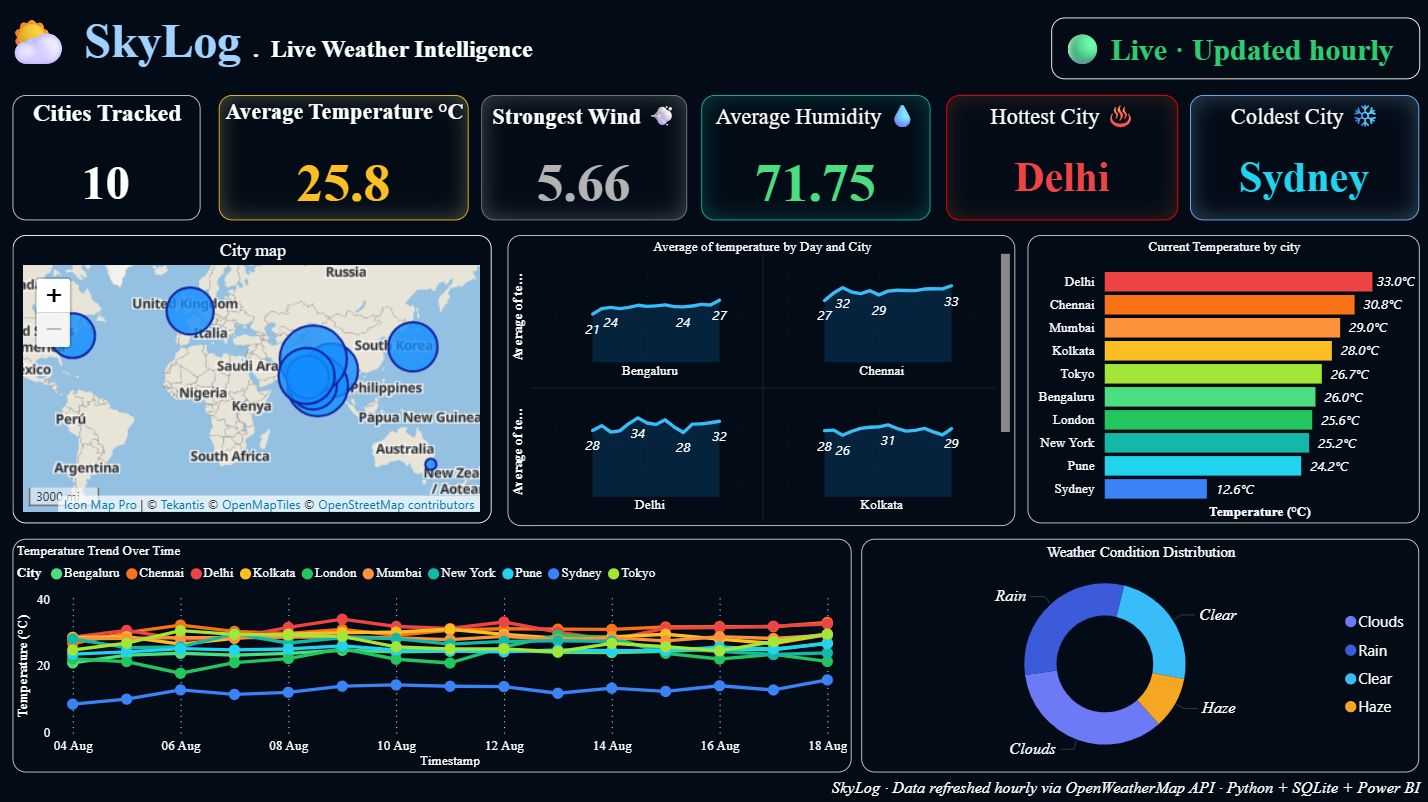

Layout of this report page (visuals, bound fields, positions):
{"tool":"powerbi","page":{"name":"Page 1","canvas":[1280,720],"ordinal":0},"visuals":[{"type":"barChart","title":"Current Temperature by city","fields":{"Y":["weather_log.Latest Temperature"],"Category":["weather_log.city"]},"box":[917.6,209.7,350.3,257.8],"z":0},{"type":"cardVisual","title":" Cities Tracked ","fields":{"Data":["weather_log.Cities Tracked"]},"box":[11.1,85.1,167.7,112.2],"z":1000},{"type":"cardVisual","title":"Average Temperature °C","fields":{"Data":["weather_log.Average Temperature"]},"box":[194.9,85.1,223.2,112.2],"z":2000},{"type":"cardVisual","title":"Hottest City ♨️","fields":{"Data":["weather_log.Hottest City"]},"box":[844.9,85.1,207.2,112.2],"z":3000},{"type":"cardVisual","title":"Coldest City ❄️","fields":{"Data":["weather_log.Coldest City"]},"box":[1063.2,85.1,204.7,112.2],"z":4000},{"type":"lineChart","fields":{"Y":["Avg(weather_log.temperature)"],"Category":["weather_log.timestamp.Variation.Date Hierarchy.Day"],"Rows":["weather_log.city"]},"box":[453.9,210,453.9,260.2],"z":5000},{"type":"cardVisual","title":"Average Humidity 💧","fields":{"Data":["weather_log.Average Humidity"]},"box":[626.6,85.1,204.7,112.2],"z":6000},{"type":"textbox","box":[0,0,938.6,87.6],"z":7000},{"type":"cardVisual","title":"Strongest Wind     💨","fields":{"Data":["weather_log.Strongest Wind Speed"]},"box":[430.5,85.1,183.8,112.2],"z":8000},{"type":"iconMapProE938B1CED4834168A55864E1F8E7242E","title":"City map","fields":{"category":["weather_log.city"],"Longitude":["Avg(weather_log.longitude)"],"Latitude":["Avg(weather_log.latitude)"],"Size":["weather_log.Latest Temperature"]},"box":[11.1,210,428,257.8],"z":9000},{"type":"donutChart","title":"Weather Condition  Distribution","fields":{"Y":["Count(weather_log.city)"],"Category":["weather_log.weather_condition"]},"box":[769.6,481,498.3,208.4],"z":10000},{"type":"textbox","box":[737.6,689.5,542.7,30.8],"z":11000},{"type":"lineChart","title":"Temperature Trend Over Time","fields":{"Category":["weather_log.timestamp.Variation.Date Hierarchy.Year","weather_log.timestamp.Variation.Date Hierarchy.Quarter","weather_log.timestamp.Variation.Date Hierarchy.Month","weather_log.timestamp.Variation.Date Hierarchy.Day"],"Y":["Avg(weather_log.temperature)"],"Series":["weather_log.city"]},"box":[11.1,481,749.9,208.4],"z":12000},{"type":"textbox","box":[938.6,16,329.3,55.5],"z":12001}]}

Visuals, with their boxes in screenshot pixels (x1, y1, x2, y2), scaled from the page's 1280x720 canvas onto the 1428x802 screenshot:
"Current Temperature by city" barChart: crop(1024, 234, 1415, 521)
" Cities Tracked " cardVisual: crop(12, 95, 199, 220)
"Average Temperature °C" cardVisual: crop(217, 95, 466, 220)
"Hottest City ♨️" cardVisual: crop(943, 95, 1174, 220)
"Coldest City ❄️" cardVisual: crop(1186, 95, 1415, 220)
lineChart - Avg(weather_log.temperature) x weather_log.timestamp.Variation.Date Hierarchy.Day: crop(506, 234, 1013, 524)
"Average Humidity 💧" cardVisual: crop(699, 95, 927, 220)
textbox: crop(0, 0, 1047, 98)
"Strongest Wind     💨" cardVisual: crop(480, 95, 685, 220)
"City map" iconMapProE938B1CED4834168A55864E1F8E7242E: crop(12, 234, 490, 521)
"Weather Condition  Distribution" donutChart: crop(859, 536, 1415, 768)
textbox: crop(823, 768, 1427, 801)
"Temperature Trend Over Time" lineChart: crop(12, 536, 849, 768)
textbox: crop(1047, 18, 1415, 80)
